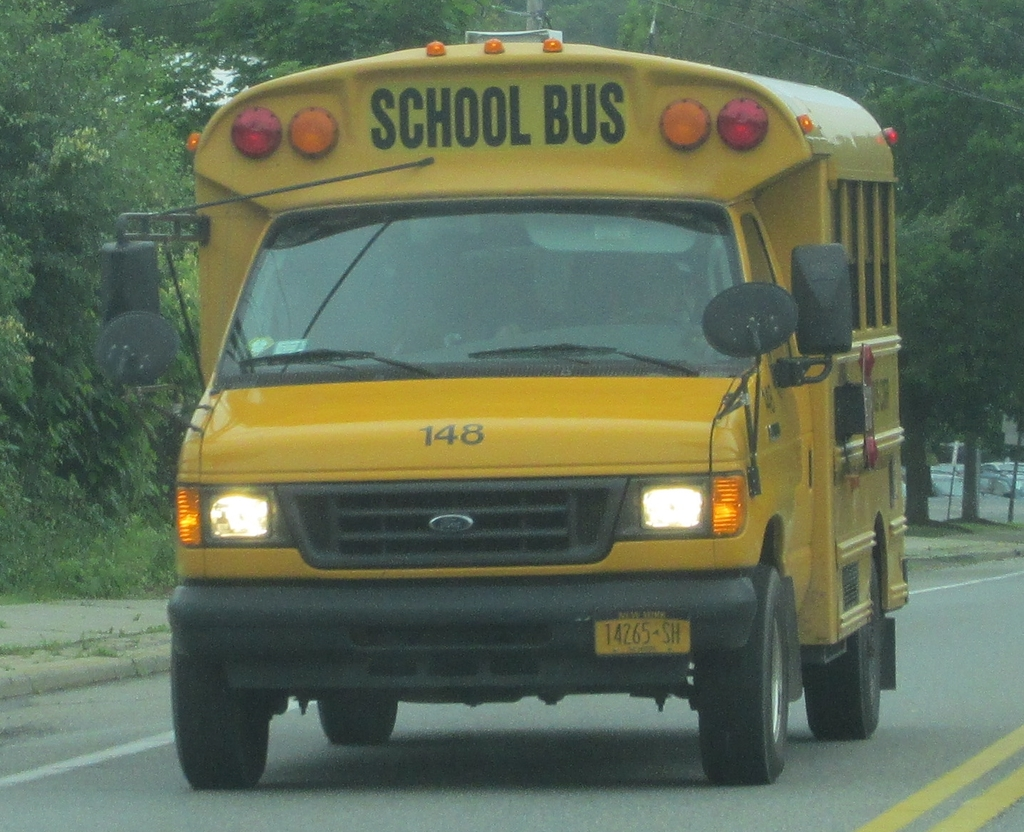Bus: (99, 24, 908, 788)
